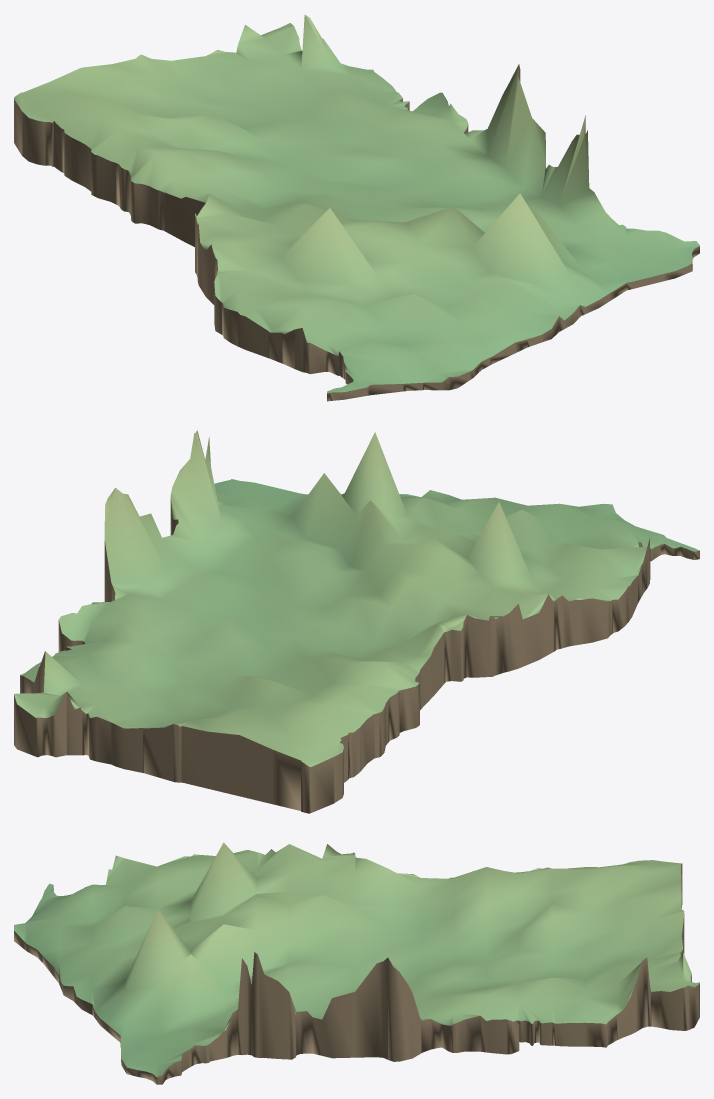
The model's file is GHA.glb.
The picture shows the model from 3 angles, top to bottom: view 1: azimuth 30°, elevation 25°; view 2: azimuth 150°, elevation 25°; view 3: azimuth 270°, elevation 25°; orthographic projection. The views are drawn at different scales.
Parts seen in each view (by area): view 1: GHA; view 2: GHA; view 3: GHA.
Part boxes in pixels (x1,y1,x2,y2): GHA: [14, 15, 699, 401]; GHA: [14, 430, 699, 813]; GHA: [14, 842, 699, 1084].
Size of the model in its own units: 1.17 by 0.2884 by 1.7.
